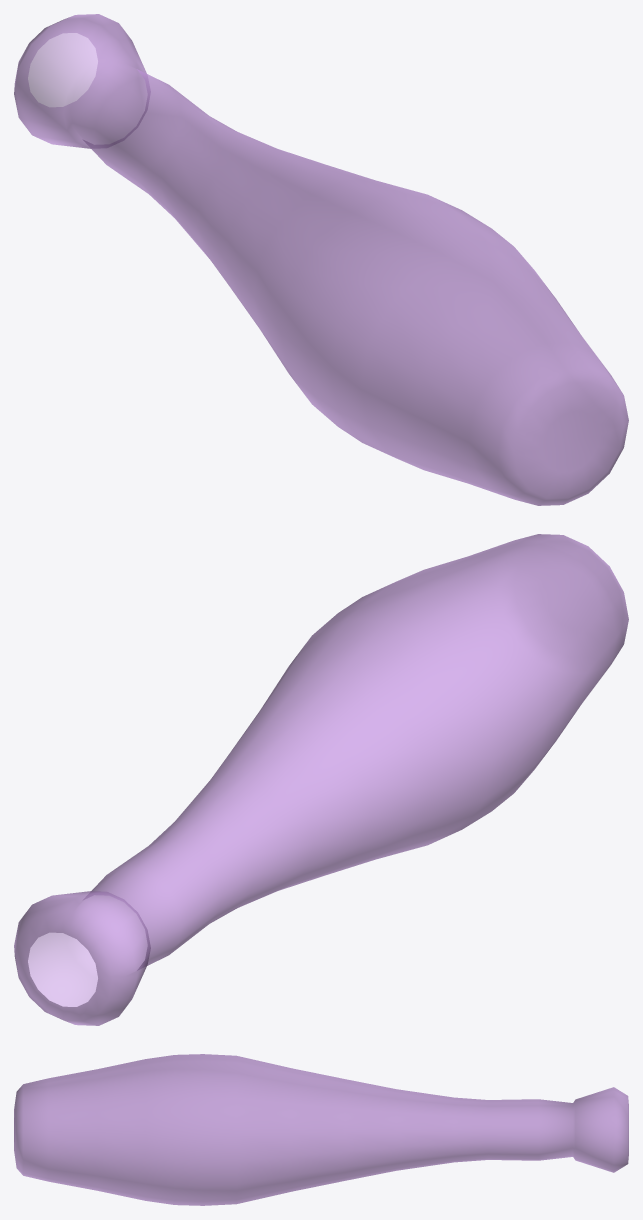
File: Bottle_Violet.glb
3 views of the same model, one above another, from view 1: azimuth 30°, elevation 25°; view 2: azimuth 150°, elevation 25°; view 3: azimuth 270°, elevation 25° (orthographic). The views are drawn at different scales.
Parts seen in each view (by area): view 1: Bottle_Violet; view 2: Bottle_Violet; view 3: Bottle_Violet.
Boxes of the visible parts, x1,y1,x2,y2 form: Bottle_Violet: [14, 14, 628, 505]; Bottle_Violet: [14, 534, 628, 1025]; Bottle_Violet: [14, 1054, 628, 1205].
Bounding box in the file's own units: 0.22 × 0.22 × 0.8902.
